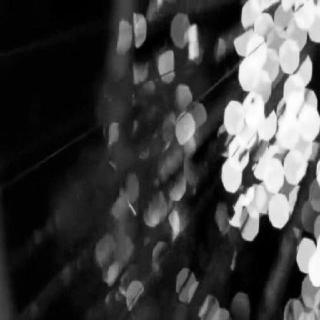other: (210, 3, 319, 283)
